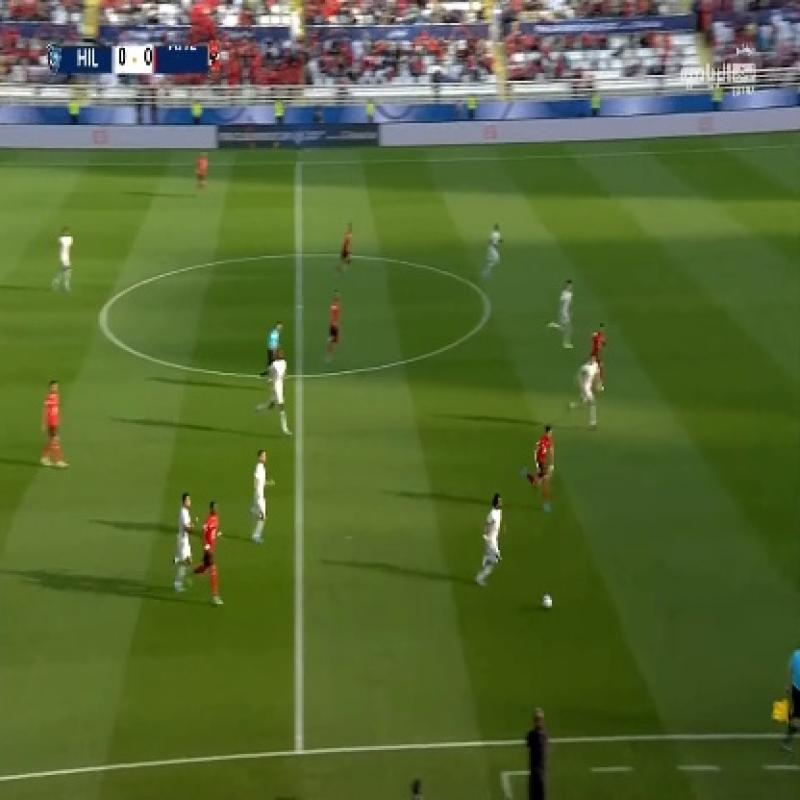13: (288, 148, 308, 175)
14: (284, 238, 312, 272)
15: (286, 356, 312, 392)
16: (282, 724, 316, 766)
c: (86, 296, 120, 340), (473, 288, 504, 324)
